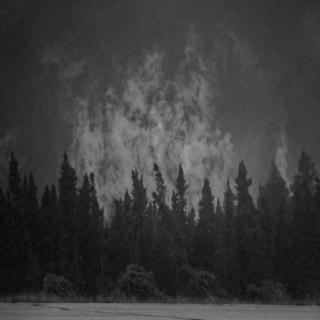Fire: (56, 26, 294, 224)
